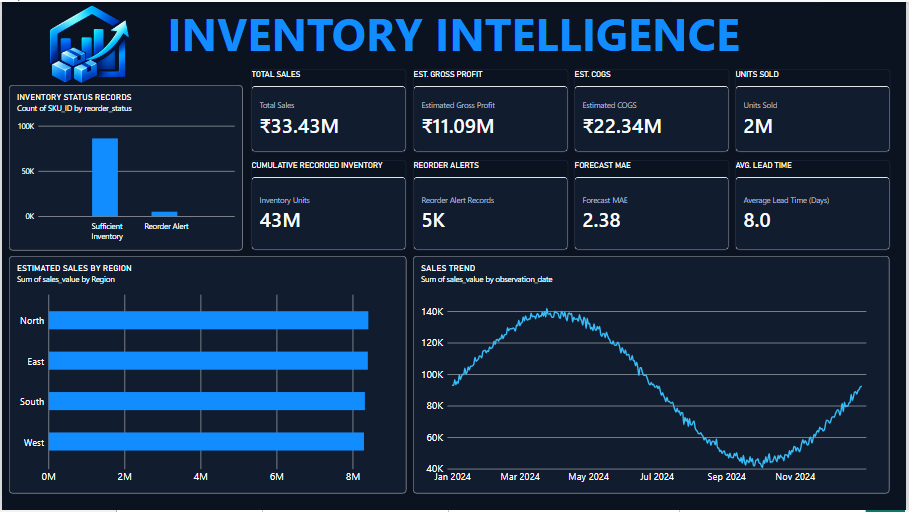

What the dashboard file says about the page in this screenshot:
{"tool":"powerbi","page":{"name":"Executive Overview","canvas":[1920,1080],"ordinal":0},"visuals":[{"type":"cardVisual","title":"TOTAL SALES","fields":{"Data":["inventory_analysis csv.Total Sales"]},"box":[529.2,142.6,330.5,177.1],"z":0},{"type":"cardVisual","title":"EST. GROSS PROFIT","fields":{"Data":["inventory_analysis csv.Estimated Gross Profit"]},"box":[874.8,142.6,330.5,177.1],"z":1000},{"type":"cardVisual","title":"EST. COGS","fields":{"Data":["inventory_analysis csv.Estimated COGS"]},"box":[1216.1,142.6,330.5,177.1],"z":2000},{"type":"cardVisual","title":"UNITS SOLD","fields":{"Data":["inventory_analysis csv.Units Sold"]},"box":[1557.4,142.6,330.5,177.1],"z":3000},{"type":"cardVisual","title":"CUMULATIVE RECORDED INVENTORY","fields":{"Data":["inventory_analysis csv.Inventory Units"]},"box":[529.2,337,330.5,192.2],"z":4000},{"type":"cardVisual","title":"AVG. LEAD TIME","fields":{"Data":["inventory_analysis csv.Average Lead Time (Days)"]},"box":[1557.4,337,330.5,192.2],"z":5000},{"type":"cardVisual","title":"REORDER ALERTS","fields":{"Data":["inventory_analysis csv.Reorder Alert Records"]},"box":[874.8,337,330.5,192.2],"z":6000},{"type":"cardVisual","title":"FORECAST MAE","fields":{"Data":["inventory_analysis csv.Forecast MAE"]},"box":[1216.1,337,330.5,192.2],"z":7000},{"type":"lineChart","title":"SALES TREND","fields":{"Category":["inventory_analysis csv.observation_date"],"Y":["Sum(inventory_analysis csv.sales_value)"]},"box":[874.8,540,1013,505.4],"z":8000},{"type":"clusteredBarChart","title":"ESTIMATED SALES BY REGION","fields":{"Category":["inventory_analysis csv.Region"],"Y":["Sum(inventory_analysis csv.sales_value)"]},"box":[15.1,540,844.6,505.4],"z":9000},{"type":"textbox","title":"INVENTORY INTELLIGENCE","box":[0,0,1920.2,142.6],"z":10000},{"type":"clusteredColumnChart","title":"INVENTORY STATUS RECORDS","fields":{"Category":["inventory_analysis csv.reorder_status"],"Y":["CountNonNull(inventory_analysis csv.SKU_ID)"]},"box":[15.1,177.1,496.8,352.1],"z":11000},{"type":"image","box":[0,0,365,177.1],"z":11001}]}

Visuals, with their boxes in screenshot pixels (x1, y1, x2, y2), scaled from the page's 1920x1080 canvas onto the 909x512 screenshot:
"TOTAL SALES" cardVisual: 251, 68, 407, 152
"EST. GROSS PROFIT" cardVisual: 414, 68, 571, 152
"EST. COGS" cardVisual: 576, 68, 732, 152
"UNITS SOLD" cardVisual: 737, 68, 894, 152
"CUMULATIVE RECORDED INVENTORY" cardVisual: 251, 160, 407, 251
"AVG. LEAD TIME" cardVisual: 737, 160, 894, 251
"REORDER ALERTS" cardVisual: 414, 160, 571, 251
"FORECAST MAE" cardVisual: 576, 160, 732, 251
"SALES TREND" lineChart: 414, 256, 894, 496
"ESTIMATED SALES BY REGION" clusteredBarChart: 7, 256, 407, 496
"INVENTORY INTELLIGENCE" textbox: 0, 0, 908, 68
"INVENTORY STATUS RECORDS" clusteredColumnChart: 7, 84, 242, 251
image: 0, 0, 173, 84
